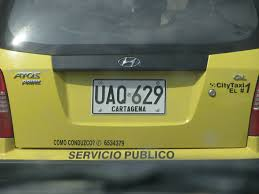number plate: (0, 49, 258, 147)
